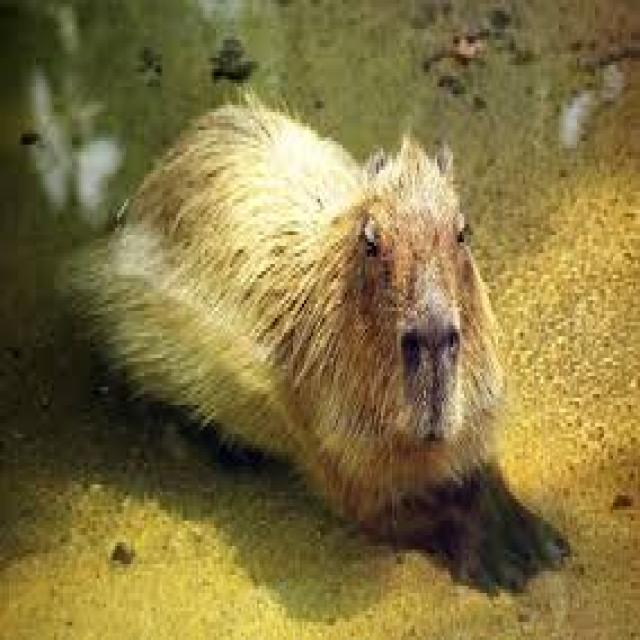capy: (86, 90, 574, 604)
